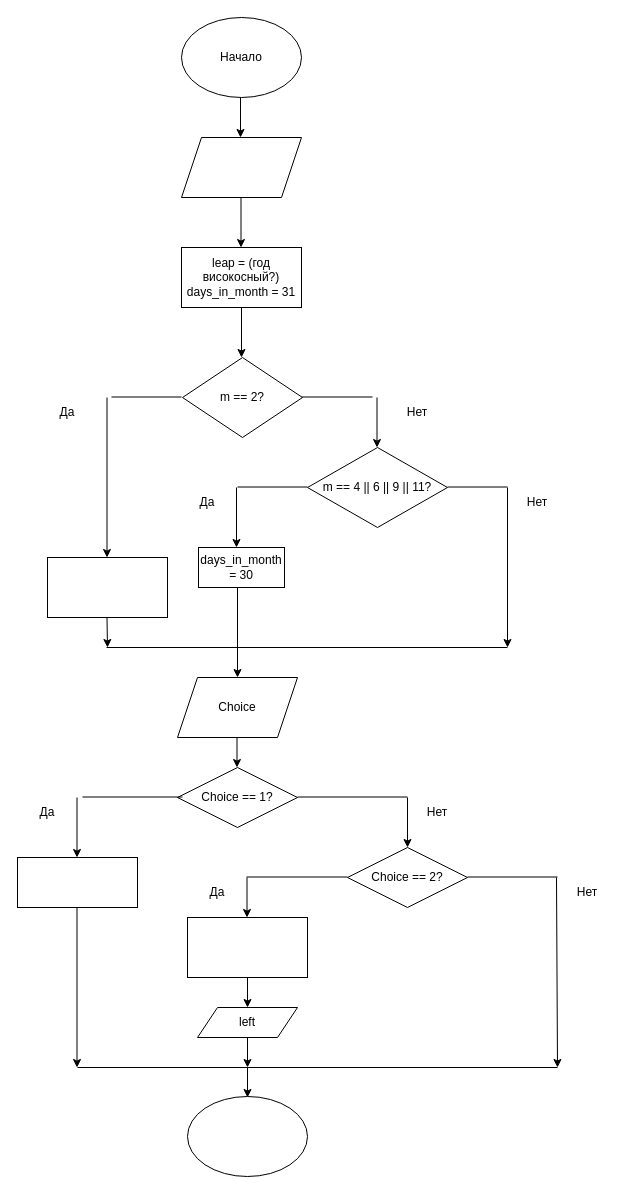
Some shapes in this 635 by 1194 pixel diagram are drawn without their labels. The centre of each missing label's shape, as x and y in pixels:
"d m y" belongs at (241,167).
"days_in_month - d" belongs at (77,882).
"days_in_month = 28 + leap" belongs at (107,587).
"left = days_in_month - d +days_month (1...12)" belongs at (247,947).
"Конец" belongs at (247,1136).
